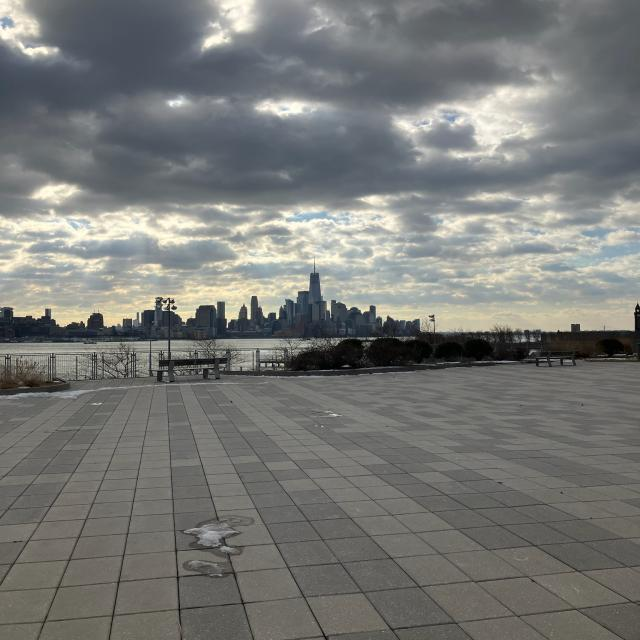WTC: (308, 256, 321, 302)
